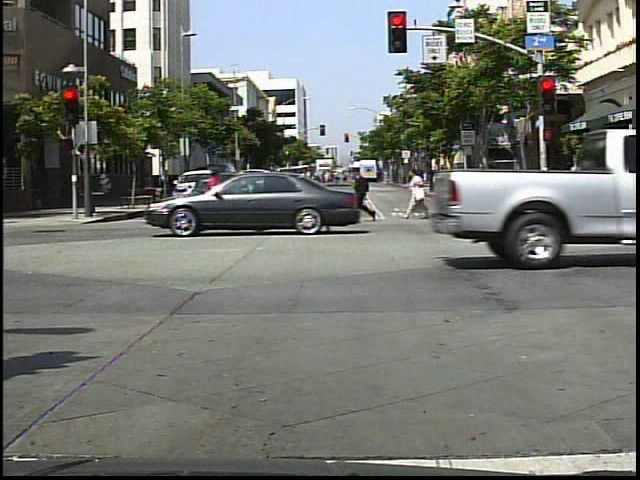person: (347, 165, 382, 231), (400, 162, 431, 226), (566, 158, 588, 208), (199, 166, 225, 197)
